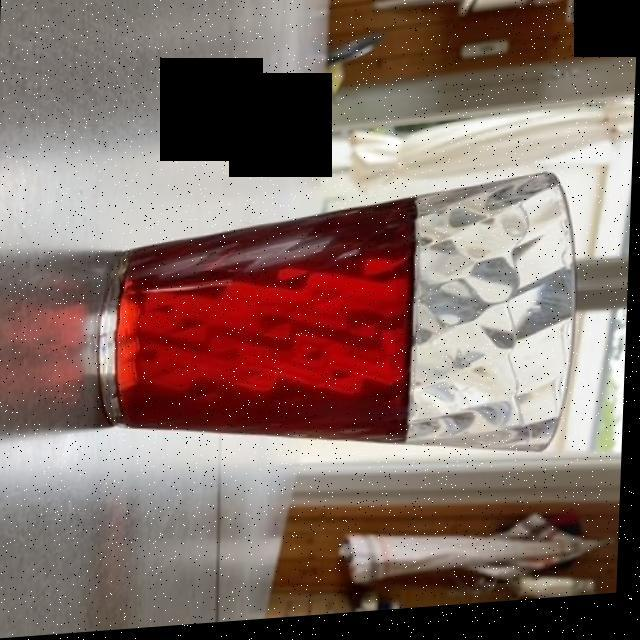tea: (117, 215, 417, 445)
